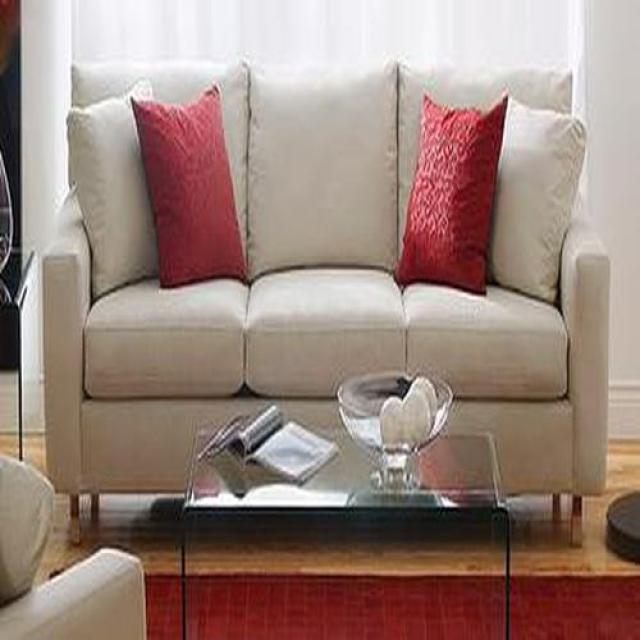sofa: (23, 59, 611, 503)
